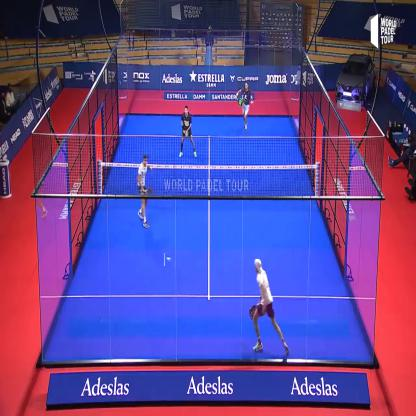ball: (164, 254, 173, 268)
